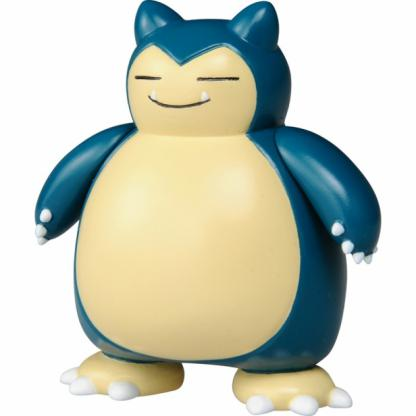Snorlax: (33, 1, 393, 416)
